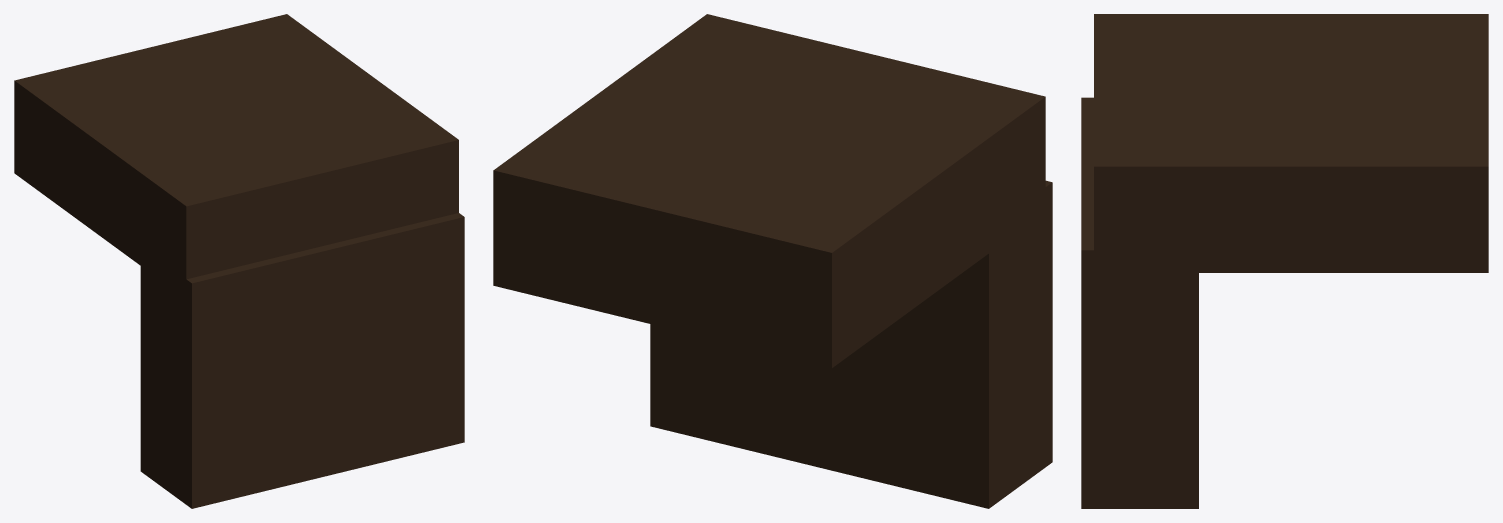
File: acc_hair_short.glb
The picture shows the model from 3 angles, left to right: view 1: azimuth 30°, elevation 25°; view 2: azimuth 150°, elevation 25°; view 3: azimuth 270°, elevation 25°; orthographic projection. The views are drawn at different scales.
Parts seen in each view (by area): view 1: acc_hair_short__mesh; view 2: acc_hair_short__mesh; view 3: acc_hair_short__mesh.
Part boxes in pixels (x1,y1,x2,y2): acc_hair_short__mesh: [14, 14, 464, 508]; acc_hair_short__mesh: [493, 14, 1052, 508]; acc_hair_short__mesh: [1081, 14, 1488, 508].
Bounding box in the file's own units: 0.215 × 0.225 × 0.2425.
